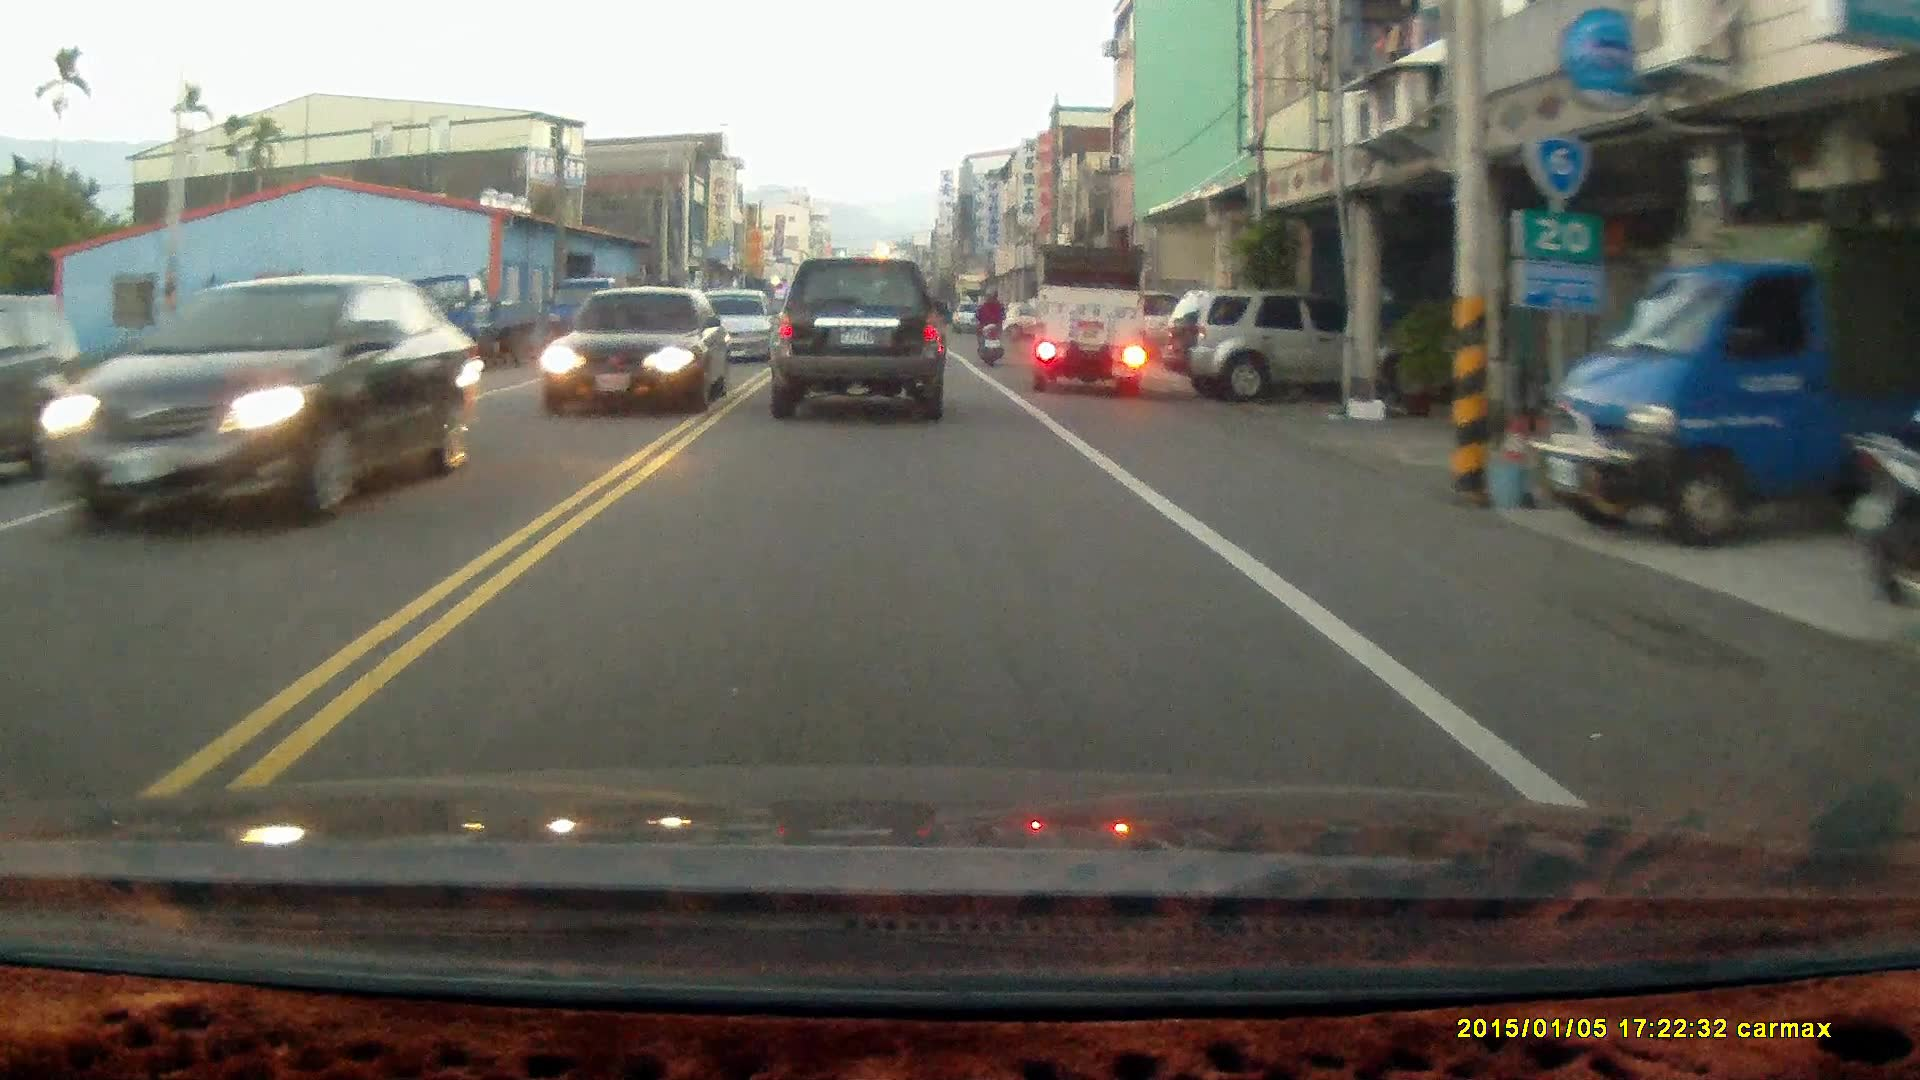rider: (973, 287, 1007, 366)
vehicle: (1539, 179, 1901, 556), (42, 271, 467, 527), (767, 263, 948, 428), (544, 287, 729, 423), (1161, 290, 1355, 405), (1, 288, 94, 488), (1034, 248, 1148, 396)
